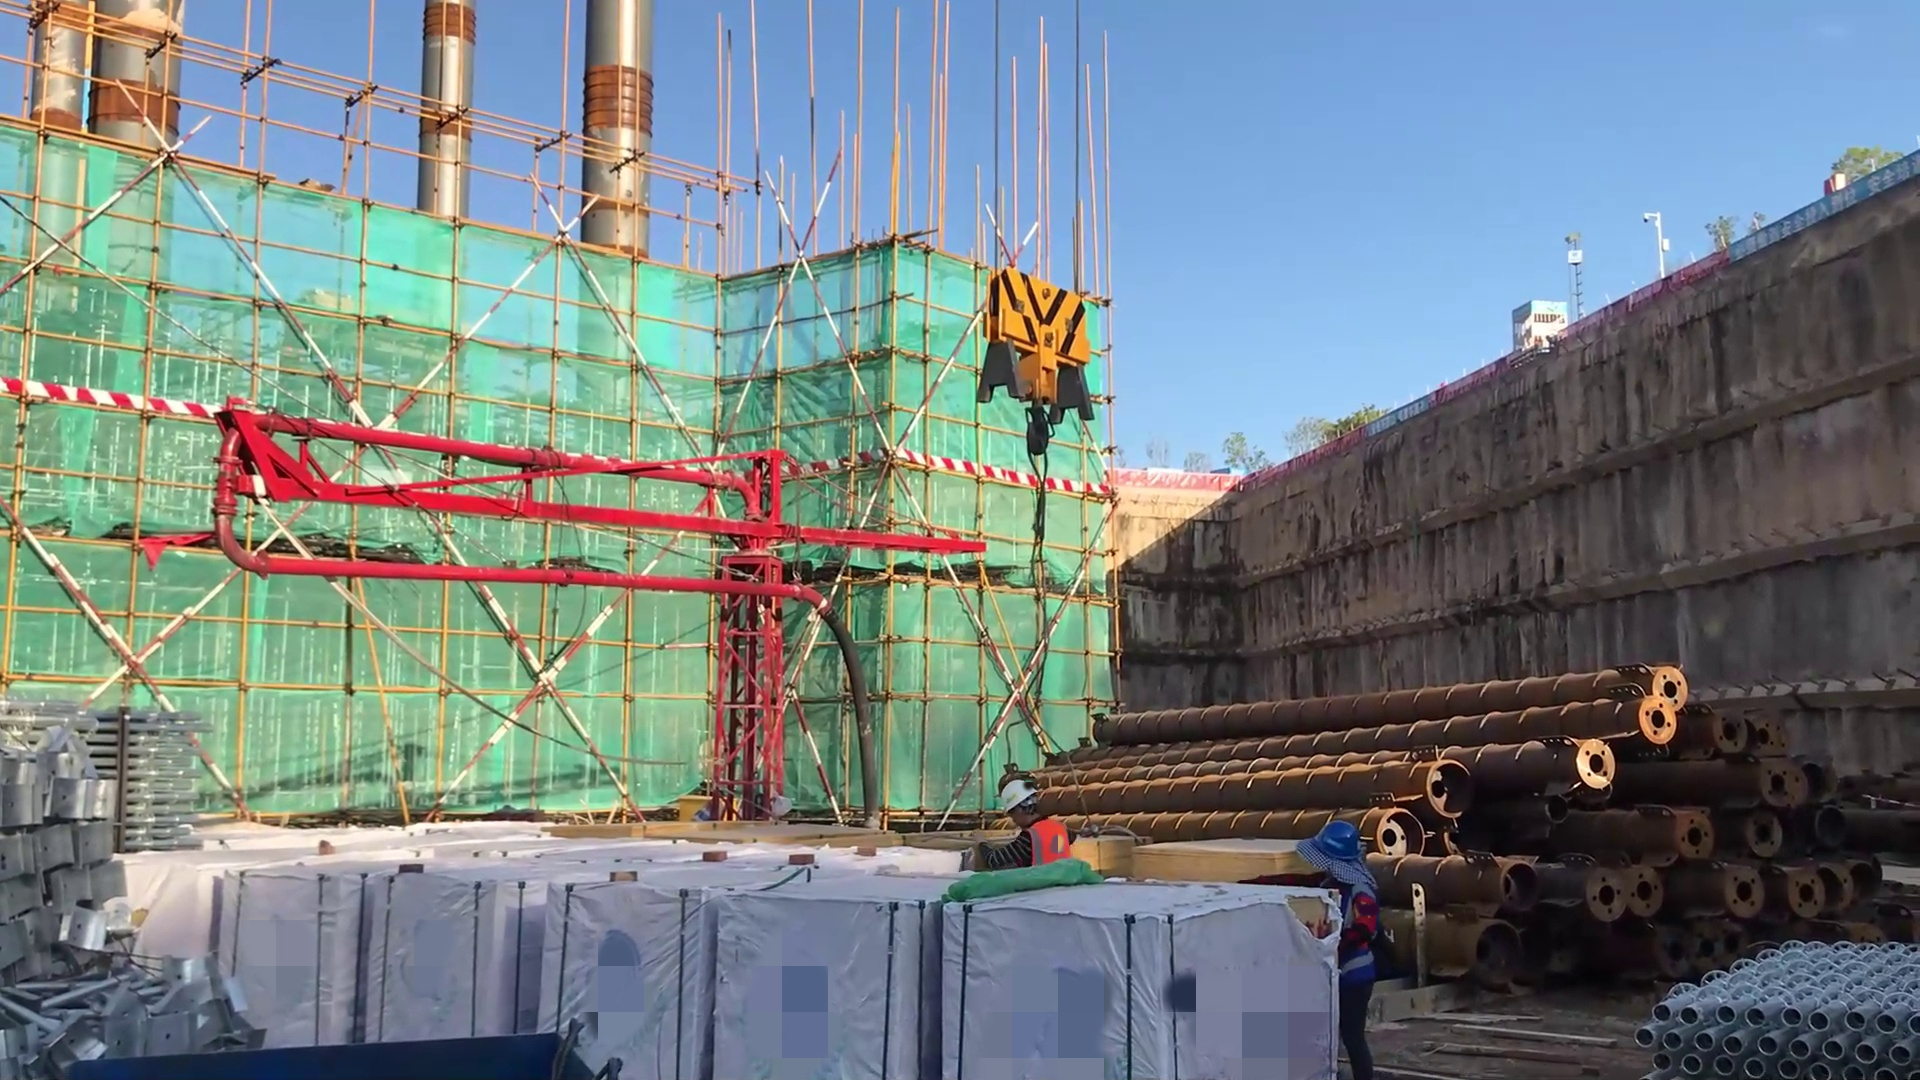board: (1125, 826, 1301, 901), (1068, 833, 1151, 879)
ebox: (666, 777, 747, 834)
helmet: (1290, 808, 1379, 894), (990, 779, 1058, 834)
hook: (963, 257, 1106, 530)
person: (1291, 808, 1403, 1080), (963, 772, 1080, 897)
scaffold: (1633, 923, 1920, 1073), (86, 695, 216, 841)
slogan: (1719, 144, 1920, 263), (1361, 388, 1434, 437)
vest: (1314, 878, 1394, 1004), (1010, 813, 1075, 875)
